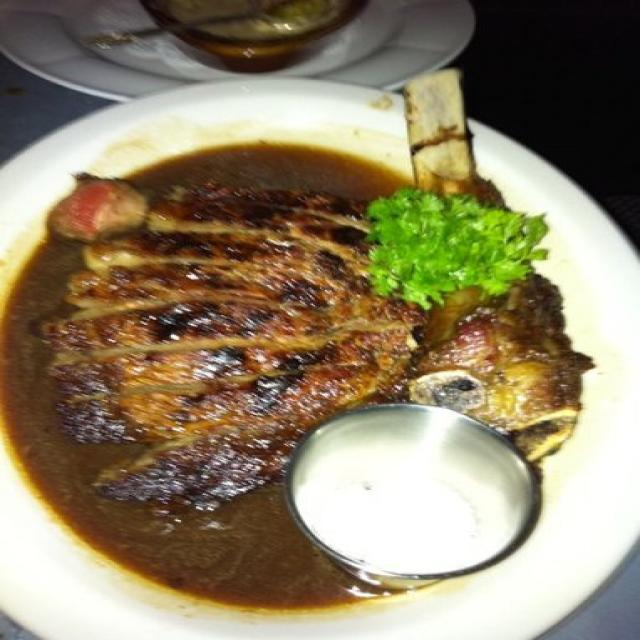Steak: (54, 153, 428, 485)
